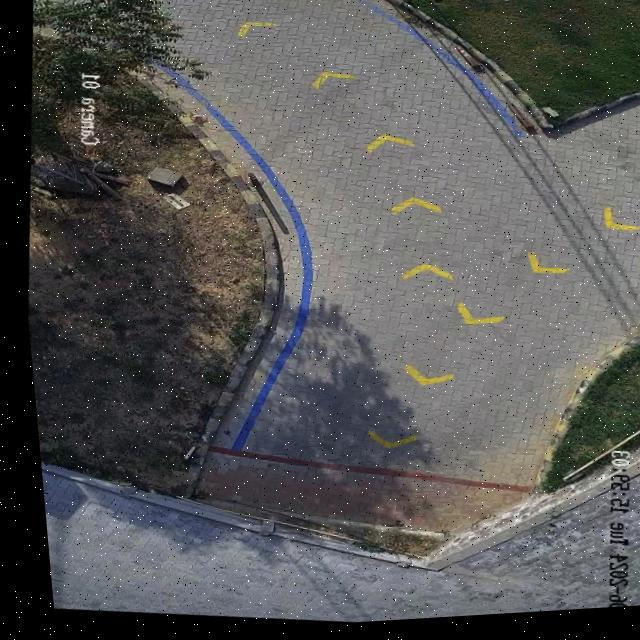No Car: (21, 0, 640, 626)
